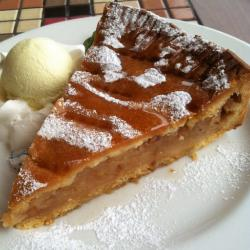apple_pie: (12, 7, 250, 225)
icecream: (5, 35, 82, 103)
